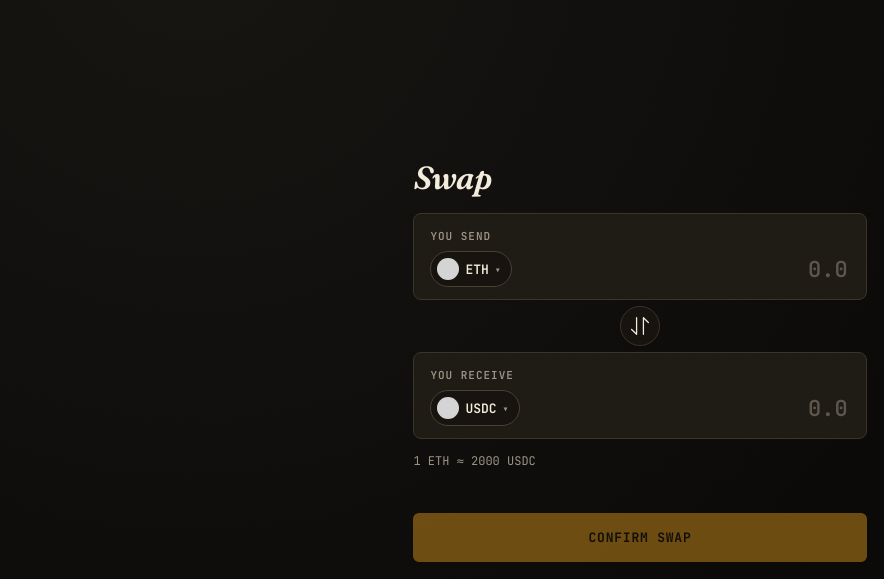
Test: SwapForm › computes the send amount when the receive amount is edited instead
In the field labelled "You receive": (690, 408) [530,392,850,424], type "4000"
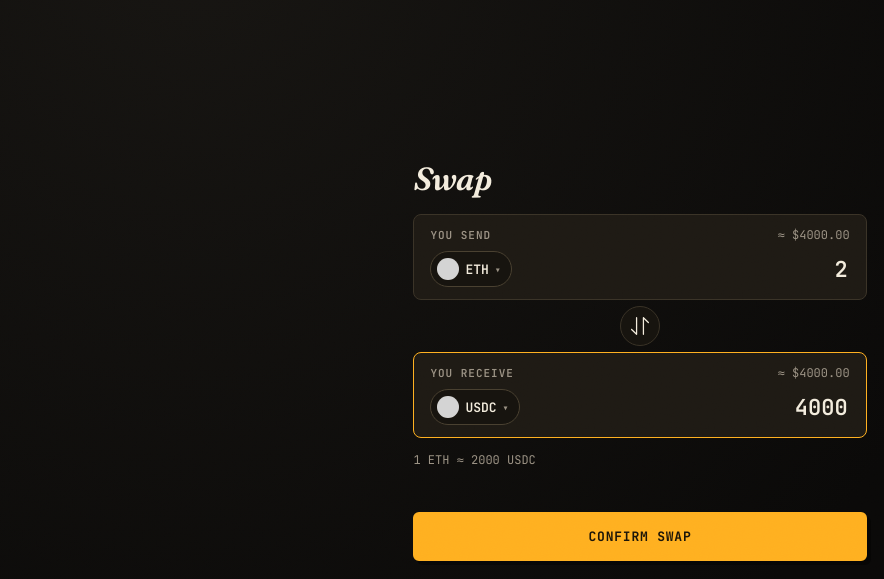
Expected: the field labelled "You send" holds "2", [522,254,850,284]
